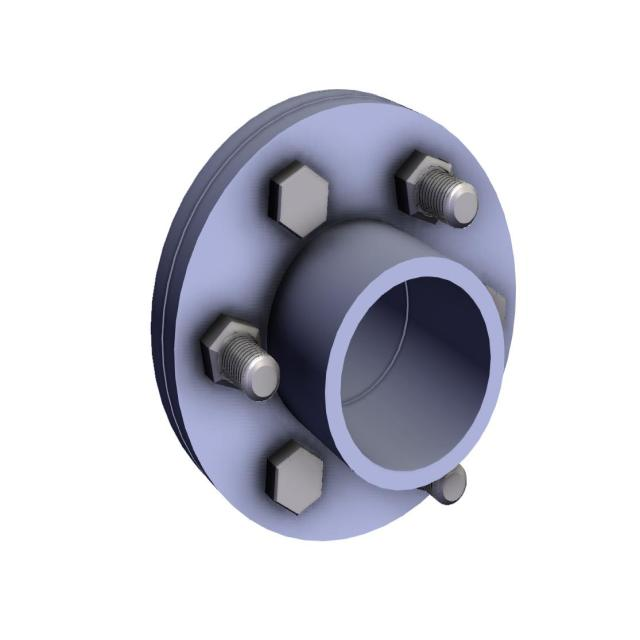bolt head: (266, 159, 332, 240), (262, 439, 325, 516)
bolt nut: (199, 313, 267, 391), (394, 149, 457, 226)
